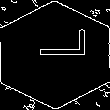L_W: (26, 39, 84, 71)
